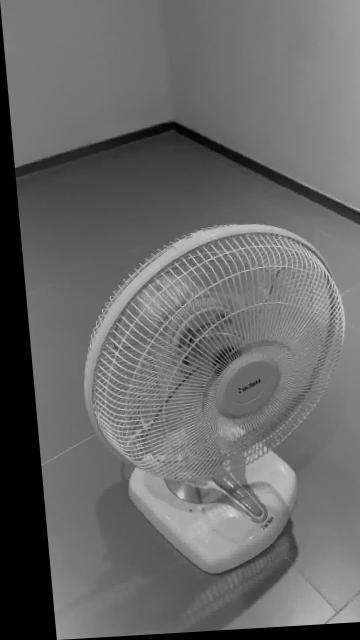Fan: (77, 228, 340, 579)
